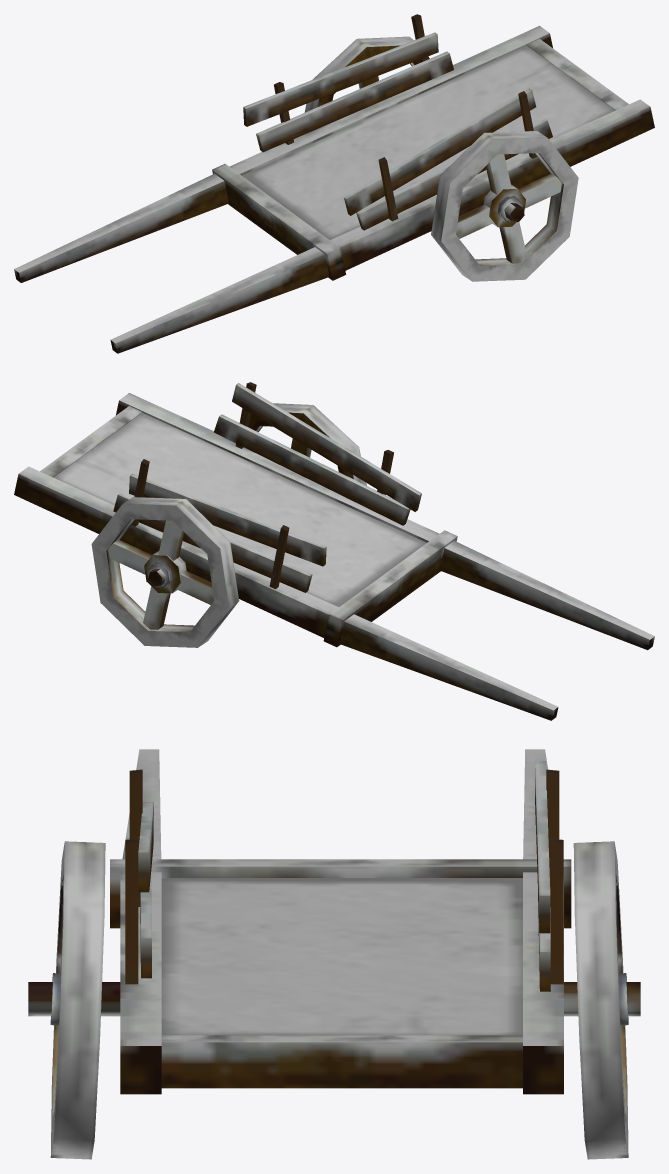
The model's file is nsm-general_obj_21.fbx.
The picture shows the model from 3 angles, top to bottom: view 1: azimuth 30°, elevation 25°; view 2: azimuth 150°, elevation 25°; view 3: azimuth 270°, elevation 25°; orthographic projection. The views are drawn at different scales.
Visible parts, largest first — view 1: Sphere01; view 2: Sphere01; view 3: Sphere01.
Part boxes in pixels (x1,y1,x2,y2): Sphere01: [14, 14, 654, 353]; Sphere01: [14, 382, 654, 720]; Sphere01: [28, 749, 640, 1159].
Bounding box in the file's own units: 4.77 × 1.44 × 2.36.
